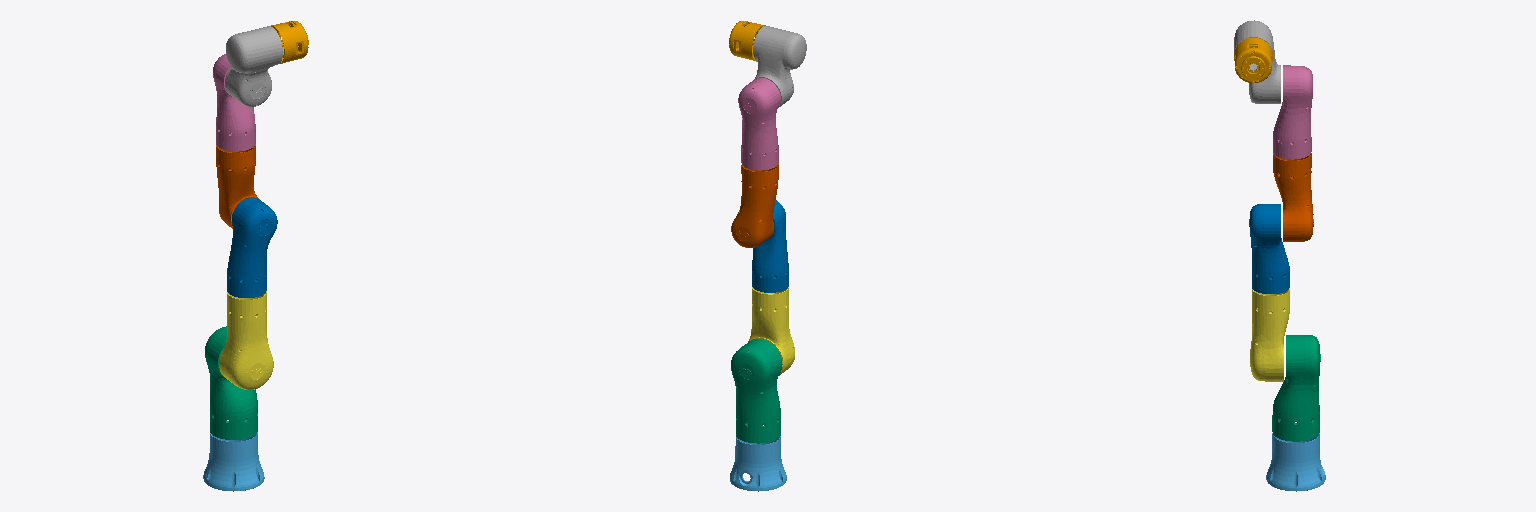
robot.urdf — flexivArm_pvt3:
<?xml version="1.0" ?>
<!-- ======================================================================= -->
<!-- |                           Flexiv 7DOFs Arm                          | -->
<!-- ======================================================================= -->
<robot name="flexivArm_pvt3">
  <!-- ============================ Link Configuration ===================== -->
  <link name="world"/>
  <!-- ============ base link =========== -->
  <link name="base">
    <inertial>
      <mass value="3.165192"/> 
      <origin rpy="0 0 0" xyz="-0.001426 0.001499 0.073871"/>
      <inertia ixx="0.013283" iyy="0.013341" izz="0.006907" ixy="0.000033" ixz="0.000242" iyz="-0.000264"/>
    </inertial>
    <visual>
      <origin rpy="0 0 0" xyz="0 0 0"/>
      <geometry>
        <mesh filename="graphics/link0_body.stl"/>
      </geometry>      
    </visual>  
    <collision>
       <origin xyz="0 0 0" rpy="0 0 0"/>
       <geometry>
         <mesh filename="graphics/link0_body.stl"/>
       </geometry>
    </collision>   
  </link>
  <!-- ============ link 1 ============= -->
  <link name="link1">
    <inertial>
      <mass value="3.463530"/> 
      <origin rpy="0 0 0" xyz="0.000139 0.006661 0.148657"/>
      <inertia ixx="0.025579" iyy="0.025107" izz="0.007014" ixy="-0.000029" ixz="0.000021"  iyz="0.001781" />
    </inertial>
    <visual>
      <origin rpy="0 0 0" xyz="0 0 0"/>
      <geometry>
        <mesh filename="graphics/link1_assemble.stl"/>
      </geometry>      
    </visual>    
    <collision>
       <origin xyz="0 0 0" rpy="0 0 0"/>
       <geometry>
         <mesh filename="graphics/link1_assemble.stl"/>
       </geometry>
    </collision>  
  </link>
  <!-- ============ link 2 ============= -->
  <link name="link2">
    <inertial>
      <mass value="2.461088"/> 
      <origin rpy="0 0 0" xyz="0.000124 0.035809 0.100437"/>
      <inertia ixx="0.021017" iyy="0.021754" izz="0.003223" ixy="-0.000004" ixz="0.000003"  iyz="-0.000107" />
    </inertial>
    <visual>
      <origin rpy="0 0 0" xyz="0 0 0"/>
      <geometry>
        <mesh filename="graphics/link2_assemble.stl"/>
      </geometry>      
    </visual>  
    <collision>
       <origin xyz="0 0 0" rpy="0 0 0"/>
       <geometry>
         <mesh filename="graphics/link2_assemble.stl"/>
       </geometry>
    </collision>   
  </link>
  <!-- ============ link 3 ============= -->
  <link name="link3">
    <inertial>
      <mass value="2.114110"/> 
      <origin rpy="0 0 0" xyz="-0.011086 -0.005253 0.131548"/>   
      <inertia ixx="0.012226" iyy="0.012012" izz="0.003112" ixy="0.000137" ixz="-0.001256"  iyz="-0.000899" />
    </inertial>
    <visual>
      <origin rpy="0 0 0" xyz="0 0 0"/>
      <geometry>
        <mesh filename="graphics/link3_assemble.stl"/>
      </geometry>      
    </visual>  
    <collision>
       <origin xyz="0 0 0" rpy="0 0 0"/>
       <geometry>
         <mesh filename="graphics/link3_assemble.stl"/>
       </geometry>
    </collision>      
  </link>
  <!-- ============ link 4 ============= -->
  <link name="link4">
    <inertial>
      <mass value="2.114110"/> 
      <origin rpy="0 0 0" xyz="0.013775 -0.028770 0.107932"/>
      <inertia ixx="0.015236" iyy="0.015646" izz="0.002410" ixy="0.000052" ixz="0.001263"  iyz="0.000604" />
    </inertial>
    <visual>
      <origin rpy="0 0 0" xyz="0 0 0"/>
      <geometry>
        <mesh filename="graphics/link4_assemble.stl"/>
      </geometry>      
    </visual>   
    <collision>
       <origin xyz="0 0 0" rpy="0 0 0"/>
       <geometry>
         <mesh filename="graphics/link4_assemble.stl"/>
       </geometry>
    </collision>  
  </link>
  <!-- ============ link 5 ============= -->
  <link name="link5">
    <inertial>
      <mass value="2.007245"/> 
      <origin rpy="0 0 0" xyz="0.000135 0.005594 0.132106"/>
      <inertia ixx="0.012881" iyy="0.012487" izz="0.003005" ixy="-0.000019" ixz="0.000025"  iyz="0.000903" />
    </inertial>
    <visual>
      <origin rpy="0 0 0" xyz="0 0 0"/>
      <geometry>
        <mesh filename="graphics/link5_assemble.stl"/>
      </geometry>      
    </visual>    
    <collision>
       <origin xyz="0 0 0" rpy="0 0 0"/>
       <geometry>
         <mesh filename="graphics/link5_assemble.stl"/>
       </geometry>
    </collision>
  </link>
  <!-- ============ link 6 ============= -->
  <link name="link6">
    <inertial>
      <mass value="1.953128"/> 
      <origin rpy="0 0 0" xyz="-0.009555 0.056435 0.071550"/>
      <inertia ixx="0.007438" iyy="0.007679" izz="0.003232" ixy="-0.000278" ixz="-0.000730"  iyz="0.001580" />
    </inertial>
    <visual>
      <origin rpy="0 0 0" xyz="0 0 0"/>
      <geometry>
        <mesh filename="graphics/link6_assemble.stl"/>
      </geometry>      
    </visual>
    <collision>
       <origin xyz="0 0 0" rpy="0 0 0"/>
       <geometry>
         <mesh filename="graphics/link6_assemble.stl"/>
       </geometry>
    </collision>    
  </link>

  <!-- ============ link 7 ============= -->
  <link name="link7">
    <inertial>
      <mass value="0.789282"/> 
      <origin rpy="0 0 0" xyz="-0.028033 -0.000597 -0.000008"/>
      <inertia ixx="0.000980" iyy="0.001060" izz="0.001033" ixy="0.000006" ixz="0.000001"  iyz="-0.000002" />
    </inertial>
    <visual>
      <origin rpy="0 0 0" xyz="0 0 0"/>
      <geometry>
        <mesh filename="graphics/link7_assemble.stl"/>
      </geometry>      
    </visual> 
    <collision>
       <origin xyz="0 0 0" rpy="0 0 0"/>
       <geometry>
         <mesh filename="graphics/link7_assemble.stl"/>
       </geometry>
    </collision>    
  </link>
  
  <!-- ========================= Joint Configuration ======================= -->
  <!-- ============ joint 0 =============== -->
  <joint name="joint0" type="fixed">
    <origin rpy="0 0 -3.1415927" xyz="0 0 0.0"/>
    <parent link="world"/>
    <child link="base"/>
  </joint>
  
  <!-- ============ joint 1 =============== -->
  <joint name="joint1" type="revolute">
    <origin rpy="0 0 0" xyz="0.0 0.0 0.135"/>
    <axis xyz="0 0 1"/>
    <limit effort="123" lower="-2.87979" upper="2.87979" velocity="2.61799"/>
    <dynamics damping="0.1"/>
    <parent link="base"/>
    <child link="link1"/>
  </joint>
 
  <!-- ============ joint 2 =============== -->
  <joint name="joint2" type="revolute">
    <origin rpy="0 0 0" xyz="0.0 0.03 0.210"/>
    <axis xyz="0 1 0"/>
    <limit effort="123" lower="-2.16421" upper="2.16421" velocity="2.61799"/>
    <dynamics damping="0.1"/>
    <parent link="link1"/>
    <child link="link2"/>
  </joint>

  <!-- ============ joint 3 =============== -->
  <joint name="joint3" type="revolute">
    <origin rpy="0 0 0" xyz="0.0 0.035  0.205"/>
    <axis xyz="0 0 1"/>
    <limit effort="64" lower="-3.05433" upper="3.05433" velocity="2.61799"/>
    <dynamics damping="0.1"/>
    <parent link="link2"/>
    <child link="link3"/>
  </joint>

  <!-- ============ joint 4 =============== -->
  <joint name="joint4" type="revolute">
    <origin rpy="0 0 0" xyz="-0.02 -0.03 0.19"/>
    <axis xyz="0 -1 0"/>
    <limit effort="64" lower="-2.79253" upper="1.95477" velocity="2.61799"/>
    <dynamics damping="0.1"/>
    <parent link="link3"/>
    <child link="link4"/>
  </joint>

  <!-- ============ joint 5 =============== -->
  <joint name="joint5" type="revolute">
    <origin rpy="0 0 0" xyz="0.02 -0.025 0.195"/>
    <axis xyz="0 0 1"/>
    <limit effort="39" lower="-3.05433" upper="3.05433" velocity="5.23599"/>
    <dynamics damping="0.1"/>
    <parent link="link4"/>
    <child link="link5"/>
  </joint>

  <!-- ============ joint 6 =============== -->
  <joint name="joint6" type="revolute">
    <origin rpy="0 0 0" xyz="0.0 0.03 0.19"/>
    <axis xyz="0 1 0"/>
    <limit effort="39" lower="-1.48353" upper="4.62512" velocity="5.23599"/>
    <dynamics damping="0.1"/>
    <parent link="link5"/>
    <child link="link6"/>
  </joint>

  <!-- ============ joint 7 =============== -->
  <joint name="joint7" type="revolute">
    <origin rpy="0 -1.5707963 0" xyz="-0.055 0.070 0.11"/>
    <axis xyz="0 0 1"/>
    <limit effort="39" lower="-3.05433" upper="3.05433" velocity="5.23599"/>
    <dynamics damping="0.1"/>
    <parent link="link6"/>
    <child link="link7"/>
  </joint> 
</robot>

--- Render facts (derived) ---
Views: 3 orthographic renders of the robot side by side, from view 1: azimuth 30°, elevation 25°; view 2: azimuth 150°, elevation 25°; view 3: azimuth 270°, elevation 25°.
Robot: flexivArm_pvt3 — 9 links, 8 joints (7 revolute, 1 fixed); root link world; default pose: every joint at zero.
Links seen in each view (by area): view 1: link2, link3, link6, link1, base, link5, link4, link7; view 2: link1, link5, link4, link6, base, link2, link3, link7; view 3: link1, link2, link5, link3, link4, base, link6, link7.
Link boxes in pixels (x1,y1,x2,y2): link2: (219, 291, 273, 389); link3: (227, 198, 277, 297); link6: (225, 26, 282, 106); link1: (205, 326, 257, 439); base: (203, 432, 264, 491); link5: (213, 54, 255, 151); link4: (216, 144, 259, 228); link7: (271, 21, 308, 63); link1: (731, 339, 782, 443); link5: (738, 78, 780, 170); link4: (731, 164, 778, 247); link6: (753, 26, 806, 107); base: (730, 436, 786, 491); link2: (748, 287, 794, 375); link3: (752, 200, 788, 292); link7: (729, 21, 765, 61); link1: (1272, 335, 1320, 441); link2: (1250, 288, 1289, 381); link5: (1273, 65, 1312, 159); link3: (1249, 204, 1289, 293); link4: (1273, 153, 1313, 241); base: (1266, 433, 1325, 491); link6: (1234, 20, 1280, 103); link7: (1234, 38, 1272, 82).
Bounding box of the posed robot: 0.213 × 0.237 × 1.28 m (x, y, z).
8 mesh visuals loaded from 8 distinct referenced files (8 binary STL).